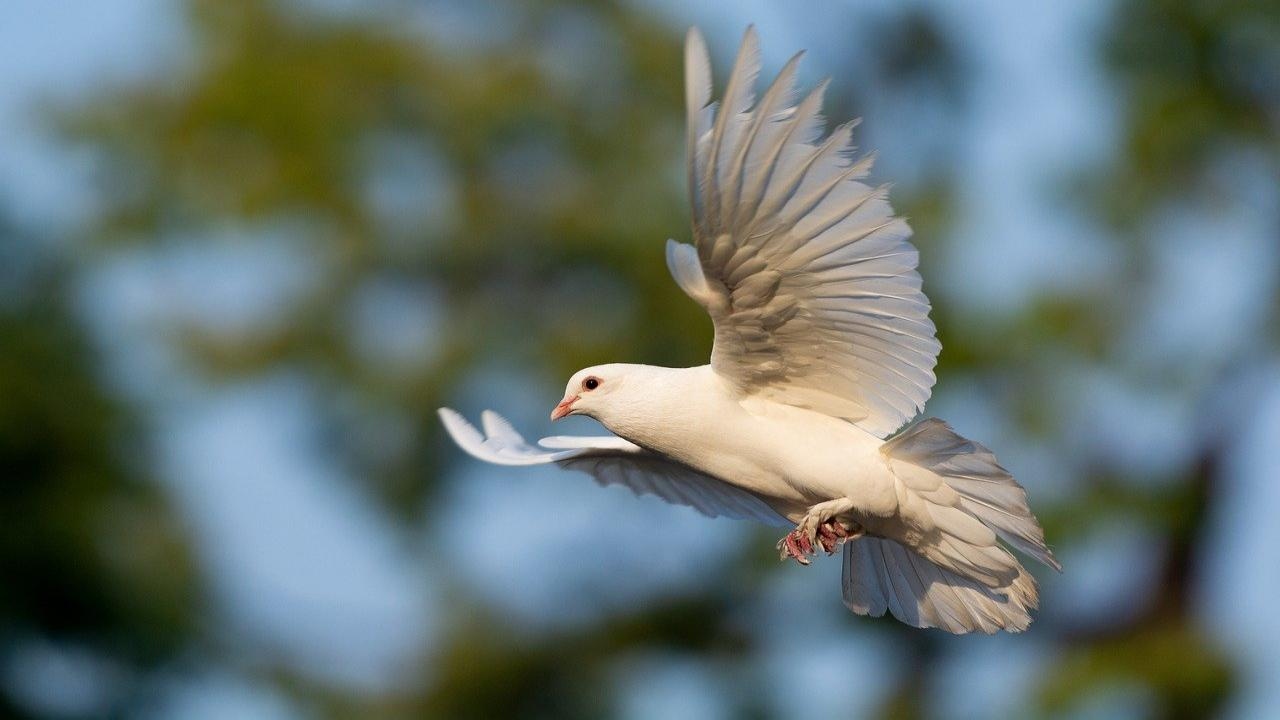Bird: (431, 17, 1078, 646)
